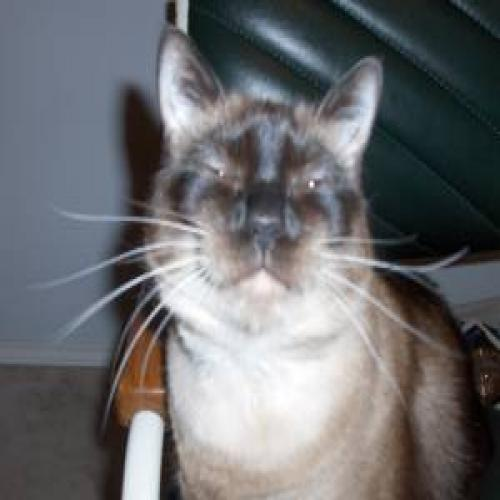siamese: (147, 1, 397, 370)
